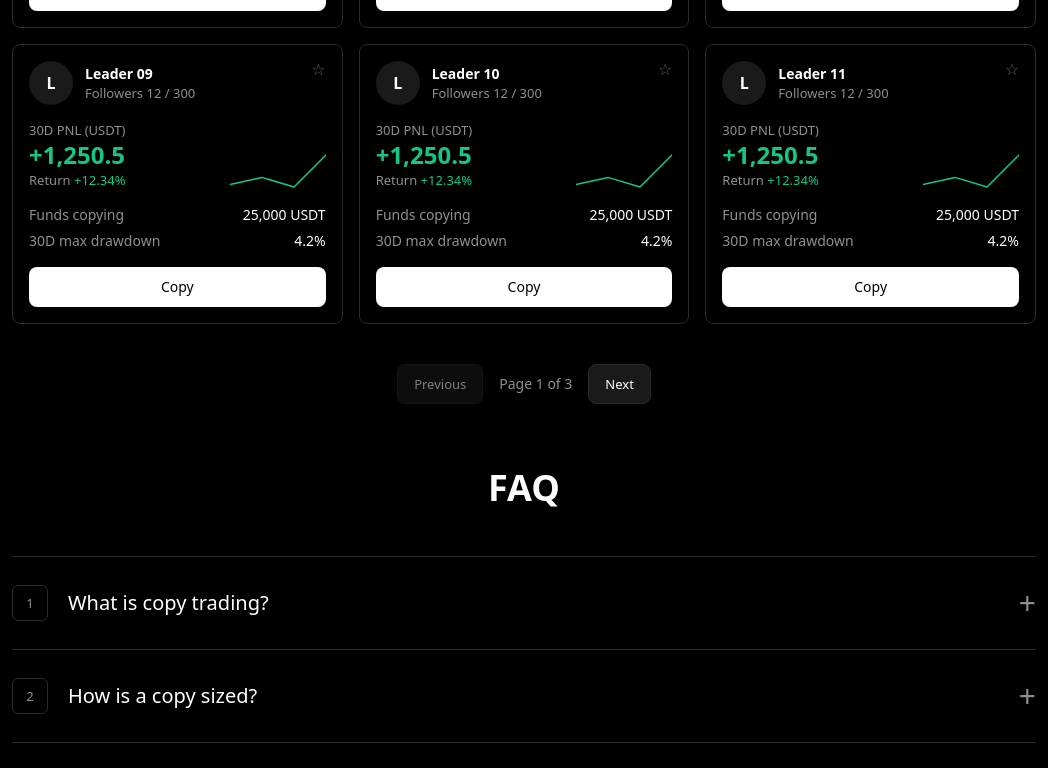
Scenario: Leaders › shows twelve cards a page, and a search that leaves fewer lands on the last page there is
The width and height of the screenshot is (1048, 768).
(page scrolled)
Expected: the text "Page 1 of 3" is shown, [499, 374, 572, 394]
Click the button "Next": (620, 384) [588, 364, 651, 404]
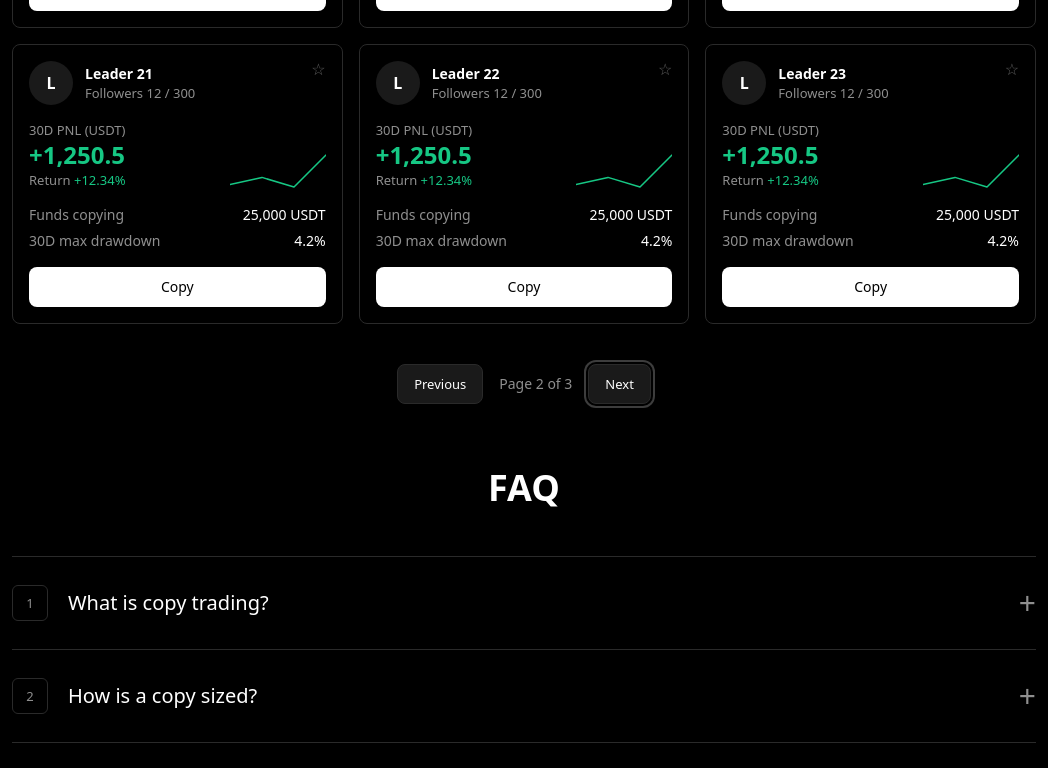
Click the button "Next": (620, 384) [588, 364, 651, 404]
(page scrolled)
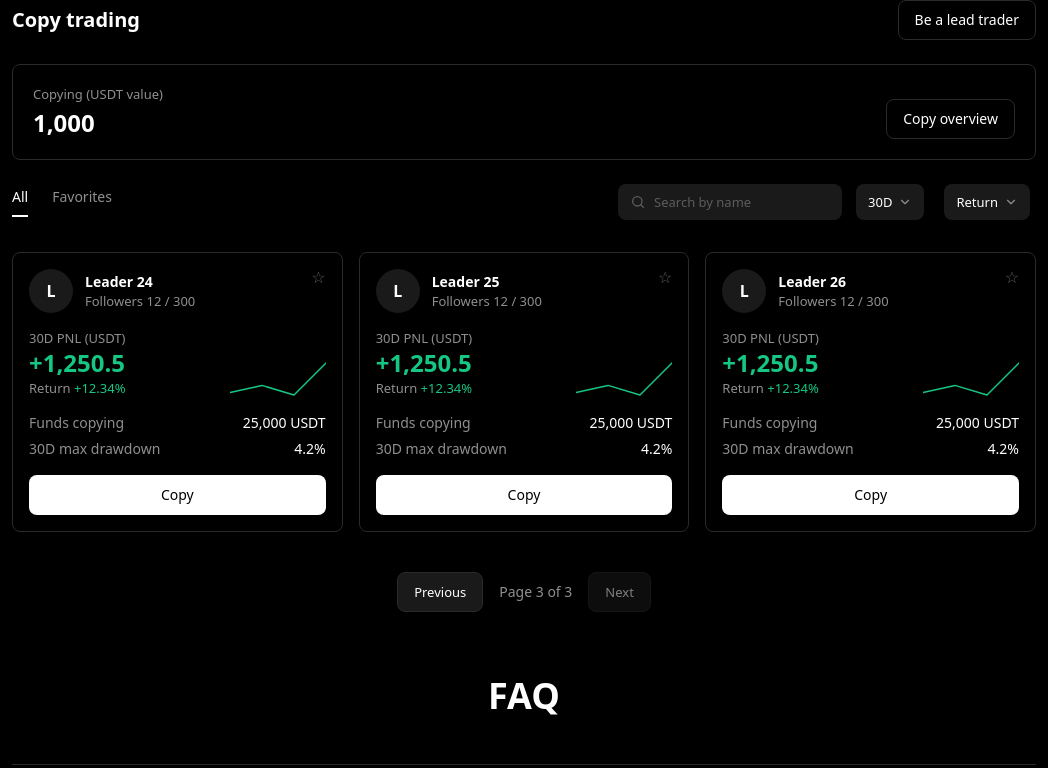
Now the number of list items is 3, box [12, 252, 343, 532]; [359, 252, 689, 532]; [705, 252, 1036, 532]
Now the button "Next" is disabled, box [588, 572, 651, 612]
In the field labelled "Search by name": (742, 202) [654, 193, 830, 211], type "Leader 1"
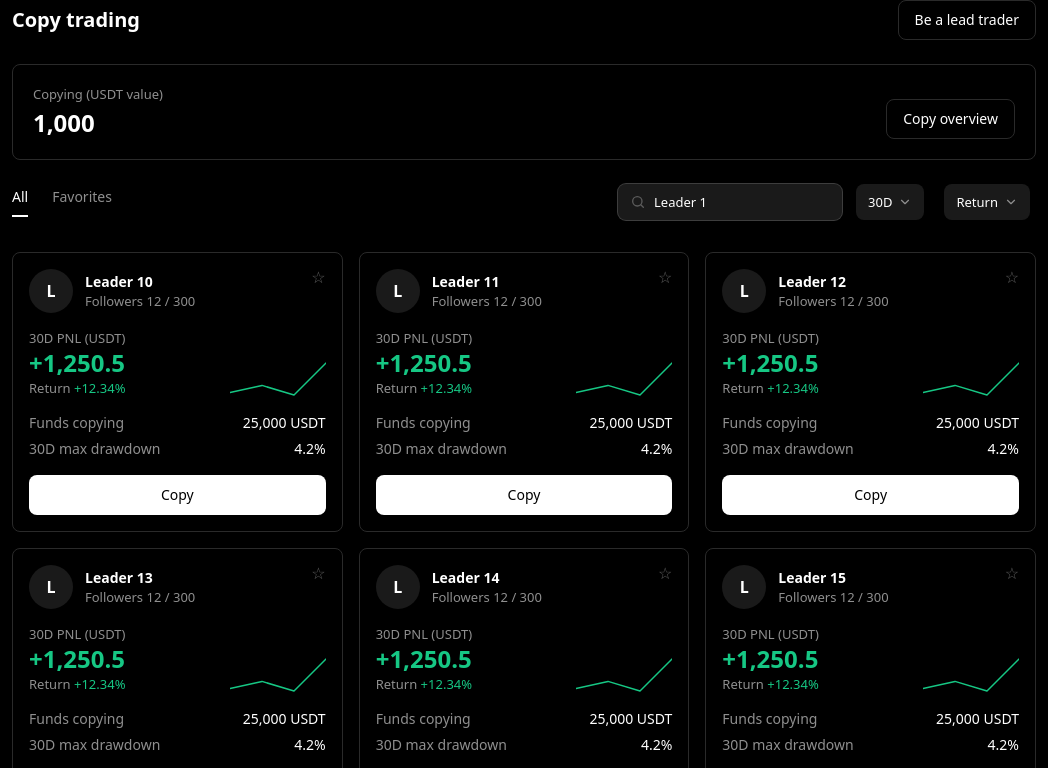
Now the number of list items is 10
Now the button "Next" is gone
